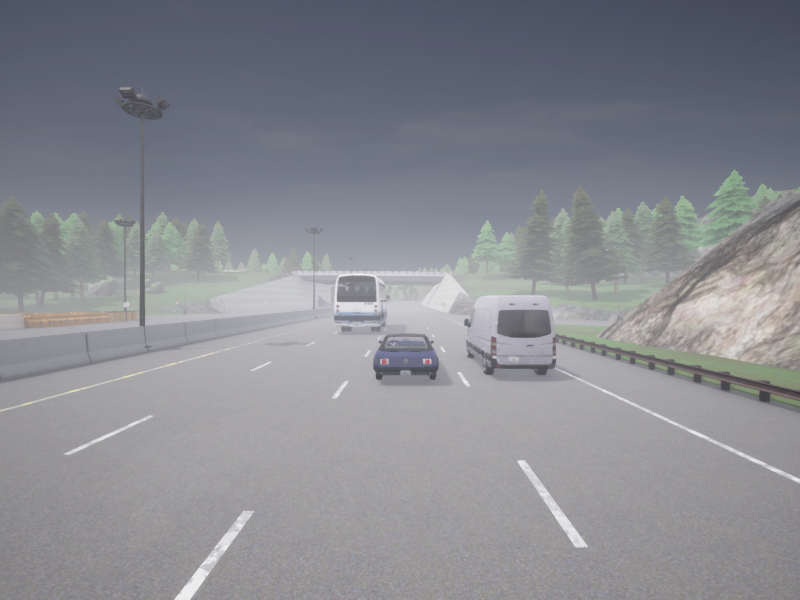vehicle: (464, 295, 555, 374), (334, 274, 389, 330), (373, 333, 438, 379)
